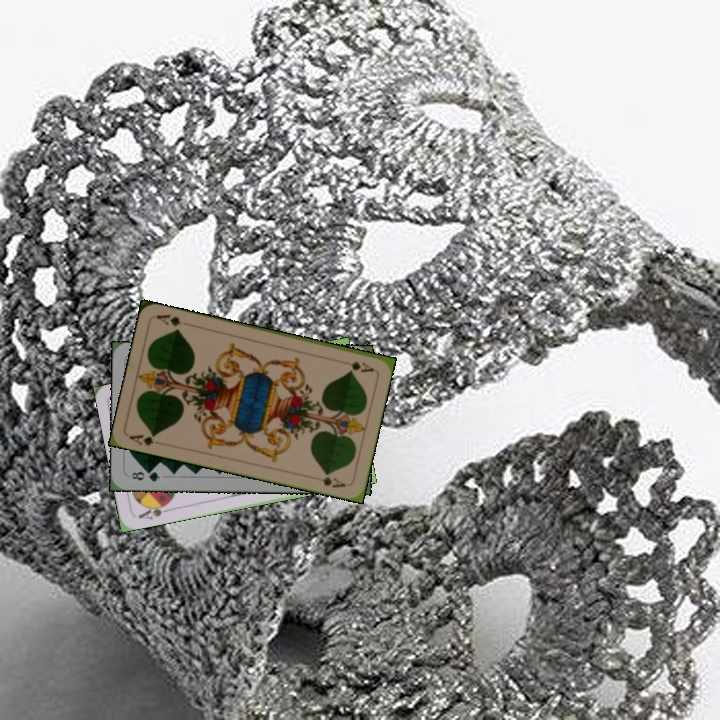G8: (127, 466, 162, 484)
GA: (125, 430, 165, 448), (336, 357, 376, 375)
SA: (134, 498, 173, 522)
